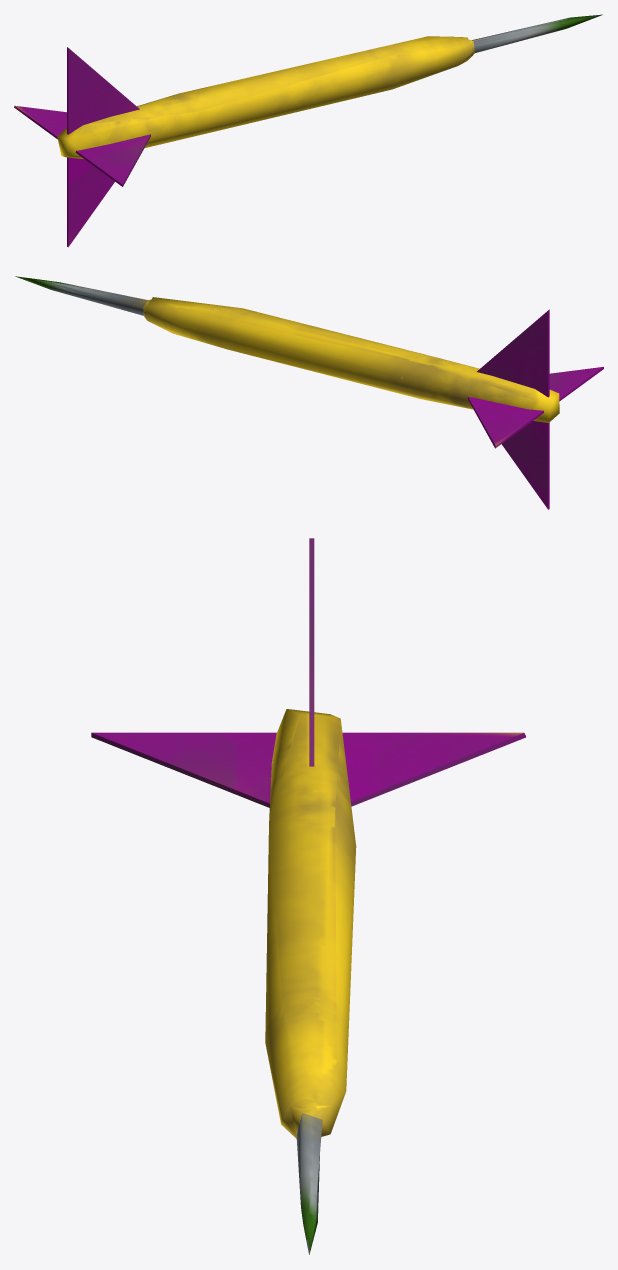
File: Dart.obj
3 views of the same model, one above another, from view 1: azimuth 30°, elevation 25°; view 2: azimuth 150°, elevation 25°; view 3: azimuth 270°, elevation 25° (orthographic). The views are drawn at different scales.
Parts seen in each view (by area): view 1: Cube; view 2: Cube; view 3: Cube.
Boxes of the visible parts, x1,y1,x2,y2 form: Cube: (14, 14, 602, 247); Cube: (15, 276, 603, 509); Cube: (91, 538, 525, 1254).
Size of the model in its own units: 14.5 by 5.1 by 5.04.
